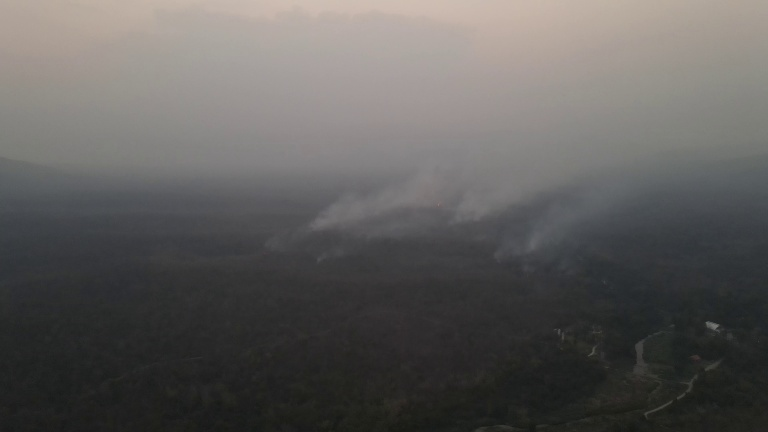fire: (433, 199, 444, 212)
smoke: (275, 130, 624, 277)
